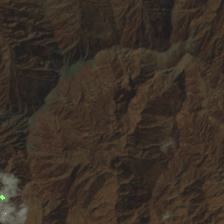landslides: (29, 78, 50, 94), (26, 145, 44, 153)
